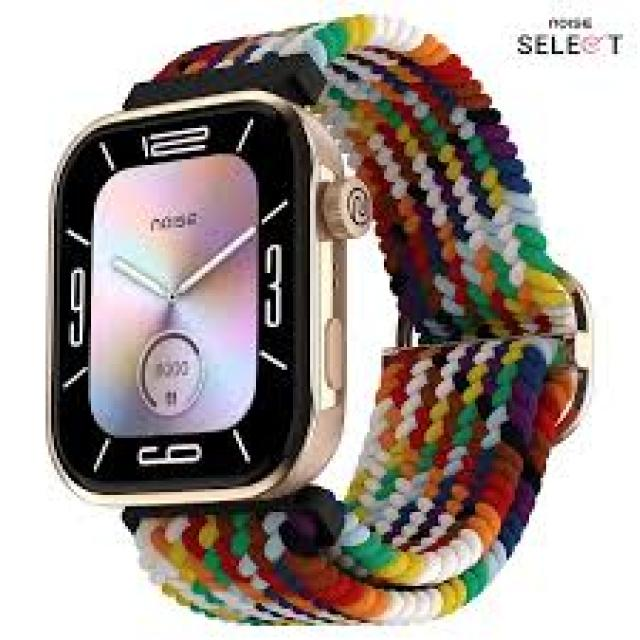objects: (51, 14, 589, 630)
